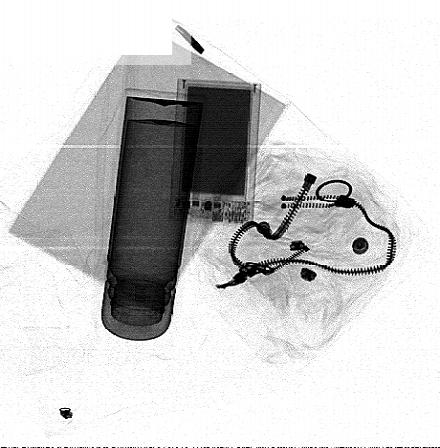Powerbank: (167, 80, 261, 224)
